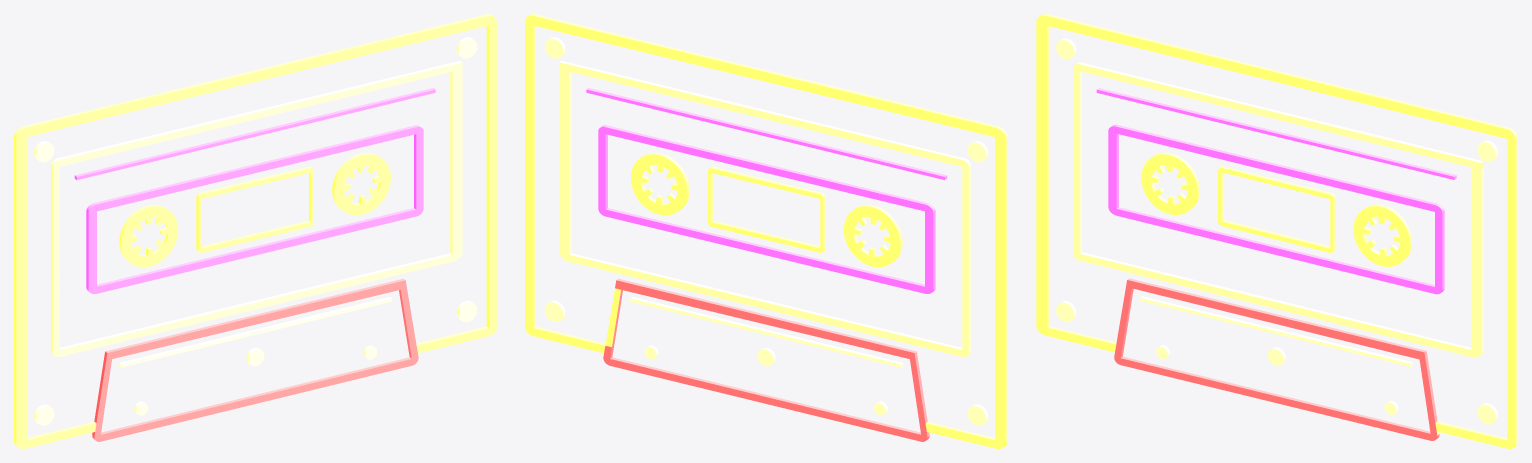
The model's file is cassete_neon.glb.
The picture shows the model from 3 angles, left to right: view 1: azimuth 30°, elevation 25°; view 2: azimuth 150°, elevation 25°; view 3: azimuth 330°, elevation 25°; orthographic projection.
Parts seen in each view (by area): view 1: Object_2, Object_6, Object_5, Object_4; view 2: Object_2, Object_6, Object_5, Object_4; view 3: Object_2, Object_6, Object_5, Object_4.
Boxes of the visible parts, x1,y1,x2,y2 form: Object_2: (14, 14, 496, 448); Object_6: (51, 60, 462, 357); Object_5: (92, 278, 418, 441); Object_4: (34, 37, 477, 425); Object_2: (525, 14, 1007, 448); Object_6: (559, 60, 970, 357); Object_5: (603, 278, 929, 441); Object_4: (544, 37, 987, 425); Object_2: (1036, 14, 1517, 448); Object_6: (1073, 62, 1483, 357); Object_5: (1114, 278, 1439, 440); Object_4: (1056, 38, 1497, 424).
Bounding box in the file's own units: 7.45 × 4.92 × 0.062.
